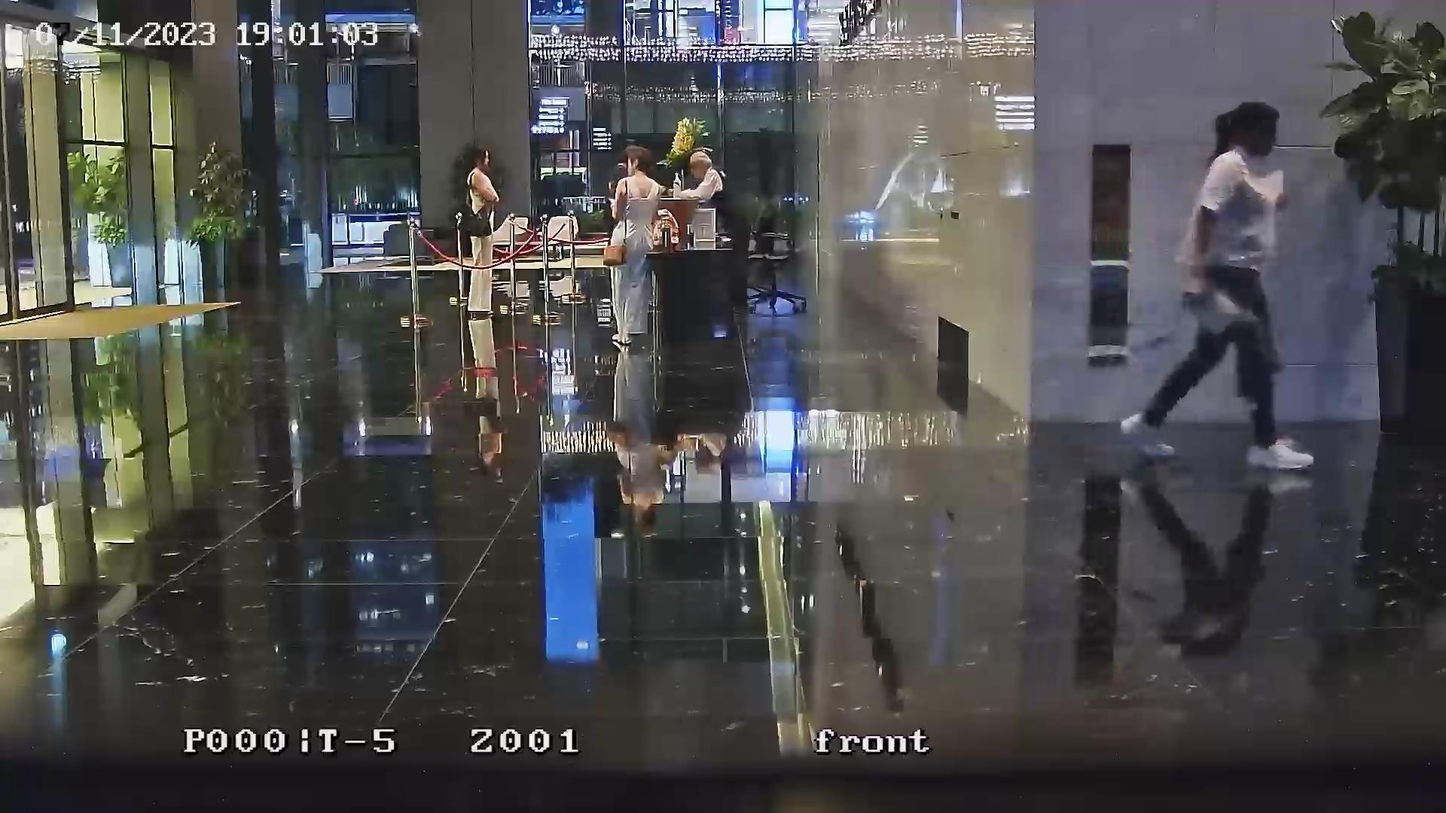person: (1120, 100, 1313, 472), (605, 145, 659, 349), (468, 147, 502, 322), (668, 148, 725, 249)
